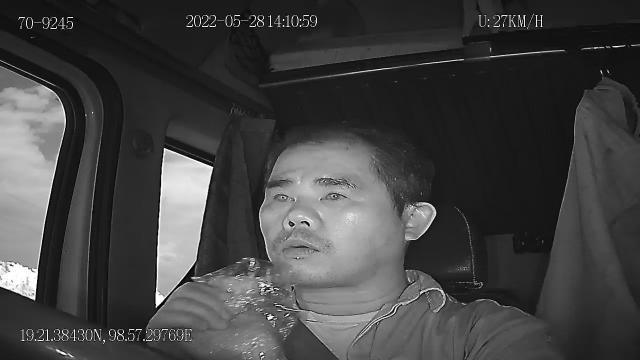SafeDriving: (311, 178, 356, 208), (264, 180, 299, 208)
Seatbelt: (278, 316, 346, 360)
